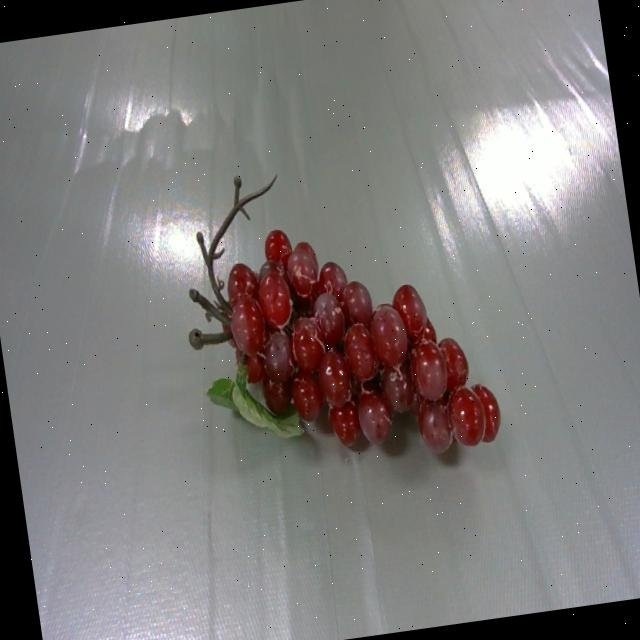grape: (187, 177, 499, 453)
